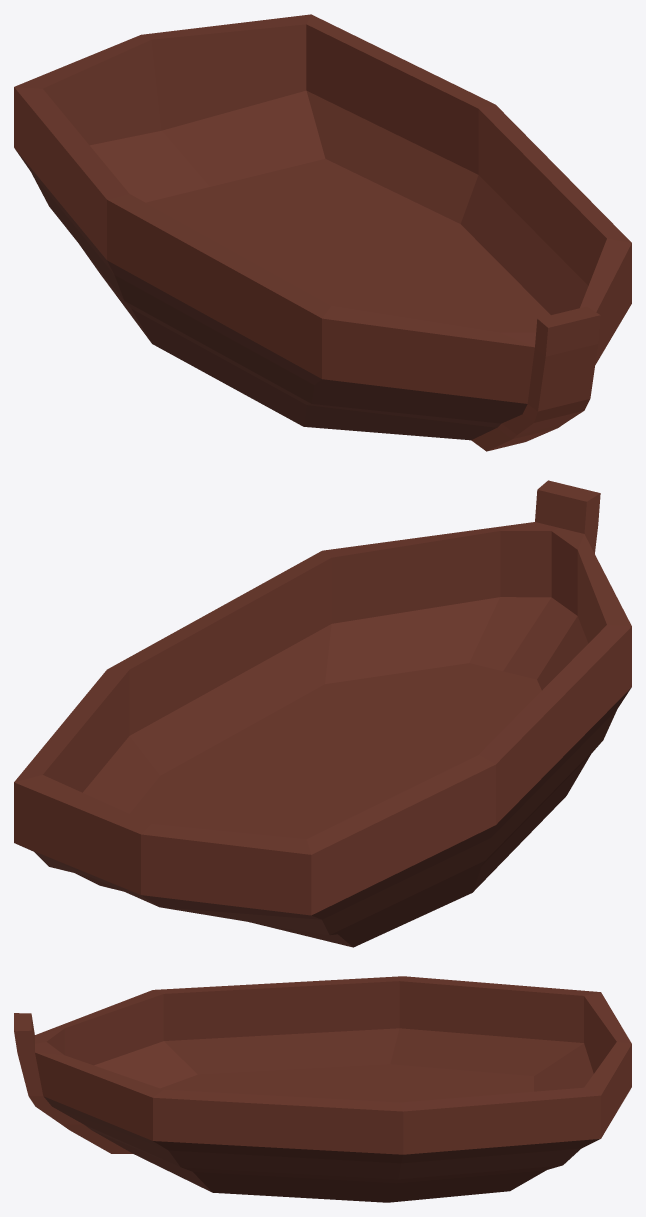
Rendered from boat.glb.
3 renders of one model, top to bottom at view 1: azimuth 30°, elevation 25°; view 2: azimuth 150°, elevation 25°; view 3: azimuth 270°, elevation 25°, orthographic. The views are drawn at different scales.
Parts seen in each view (by area): view 1: Boat; view 2: Boat; view 3: Boat.
Part boxes in pixels (left/top/right/bottom): Boat: left=14, top=14, right=631, bottom=451; Boat: left=14, top=480, right=631, bottom=947; Boat: left=14, top=976, right=631, bottom=1202.
Bounding box in the file's own units: 4.3 × 1.85 × 8.29.
